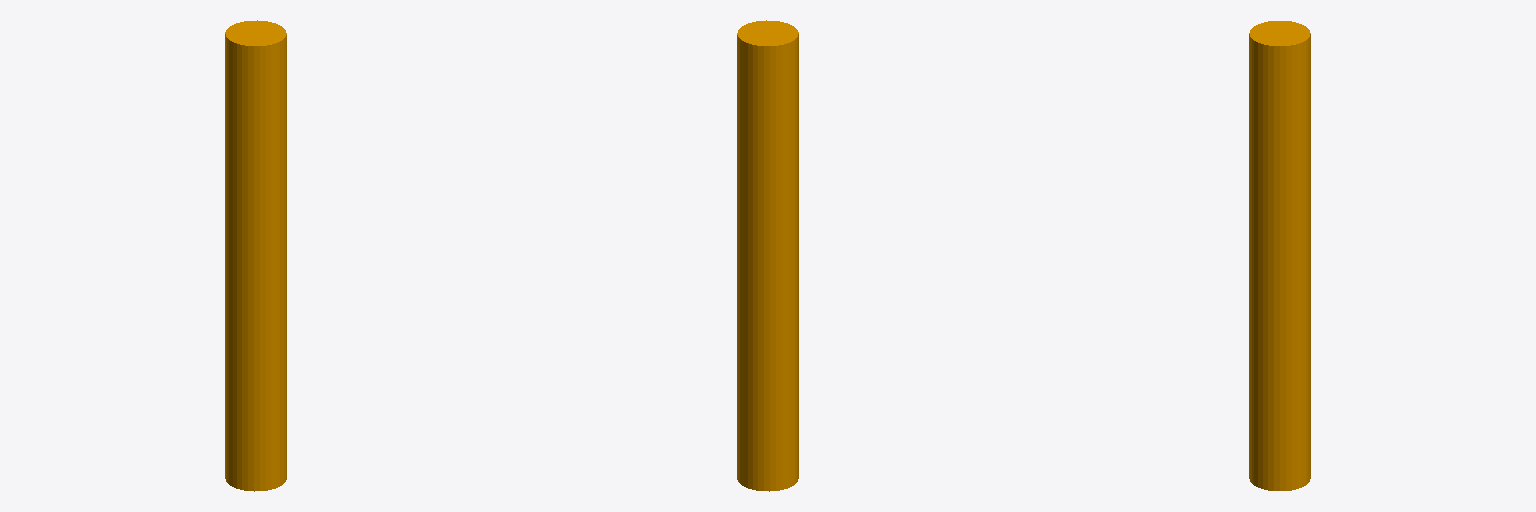
robot.urdf — wood:
<?xml version="1.0" ?>
<robot name="wood">

<material name="silver">
  <color rgba="0.700 0.700 0.700 1.000"/>
</material>

<link name="base_link">
  <inertial>
    <origin xyz="0.0 0.0 0.0" rpy="0 0 0"/>
    <mass value="175.41412851811845"/>
    <inertia ixx="0.0" iyy="1.0" izz="1.0" ixy="0.0" iyz="0.0" ixz="0.0"/>
    <dynamics friction=".8" damping=".5"/>
  </inertial>
  
  <visual>
    <origin xyz="0 0 0" rpy="0 0 0"/>
    <geometry>
      <cylinder length="4" radius=".25"/>
    </geometry>
    <material name="silver"/>
    <material/>
  </visual>
  
  <collision concave="yes">
    <origin xyz="0 0 0" rpy="0 0 0"/>
    <geometry>
      <cylinder length="4" radius=".25"/>
    </geometry>
  </collision>

  <contact>
    <lateral_friction value=".3"/>
    <rolling_friction value=".1"/>
    <!--contact_cfm value="11"/-->
    <!--contact_erp value="1"/-->
    <!--stiffness value="3000000"/-->
    <!--damping value="100000"/-->
  </contact>

</link>

</robot>

--- Render facts (derived) ---
The picture shows the robot from 3 angles, left to right: view 1: azimuth 30°, elevation 25°; view 2: azimuth 150°, elevation 25°; view 3: azimuth 270°, elevation 25°; orthographic projection.
Robot: wood — 1 links, 0 joints (none); root link base_link; default pose: every joint at zero.
Visible links, largest first — view 1: base_link; view 2: base_link; view 3: base_link.
Boxes of the visible links, x1,y1,x2,y2 form: base_link: [225, 20, 286, 491]; base_link: [737, 20, 798, 491]; base_link: [1249, 21, 1310, 490].
Bounding box of the posed robot: 0.5 × 0.5 × 4 m (x, y, z).
Geometry: primitives only (box / cylinder / sphere), no mesh files.